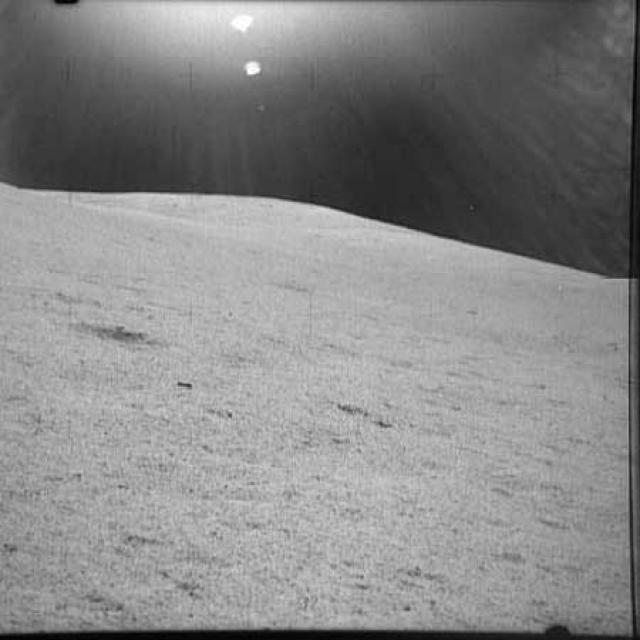crater: (69, 313, 181, 362), (340, 393, 400, 433)
